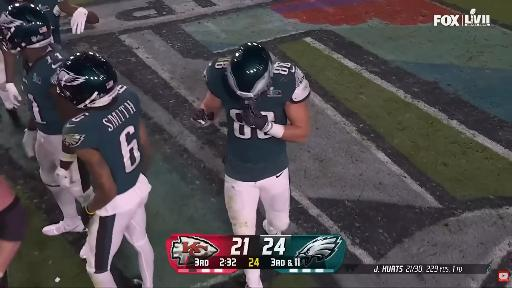Helmet: (52, 52, 117, 108), (227, 43, 273, 100), (0, 4, 51, 52)
Jersey: (204, 58, 288, 181), (63, 86, 142, 194), (22, 44, 68, 134), (34, 0, 63, 44), (35, 0, 63, 44)
Player: (54, 52, 153, 287), (196, 43, 310, 234), (0, 4, 92, 235), (0, 0, 98, 44), (0, 176, 27, 287)
